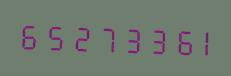five: (41, 17, 64, 54)
one: (185, 22, 208, 59)
seven: (89, 19, 112, 55)
six: (17, 16, 40, 53), (161, 21, 184, 58)
three: (113, 19, 136, 56), (137, 20, 160, 57)
two: (65, 18, 88, 55)
